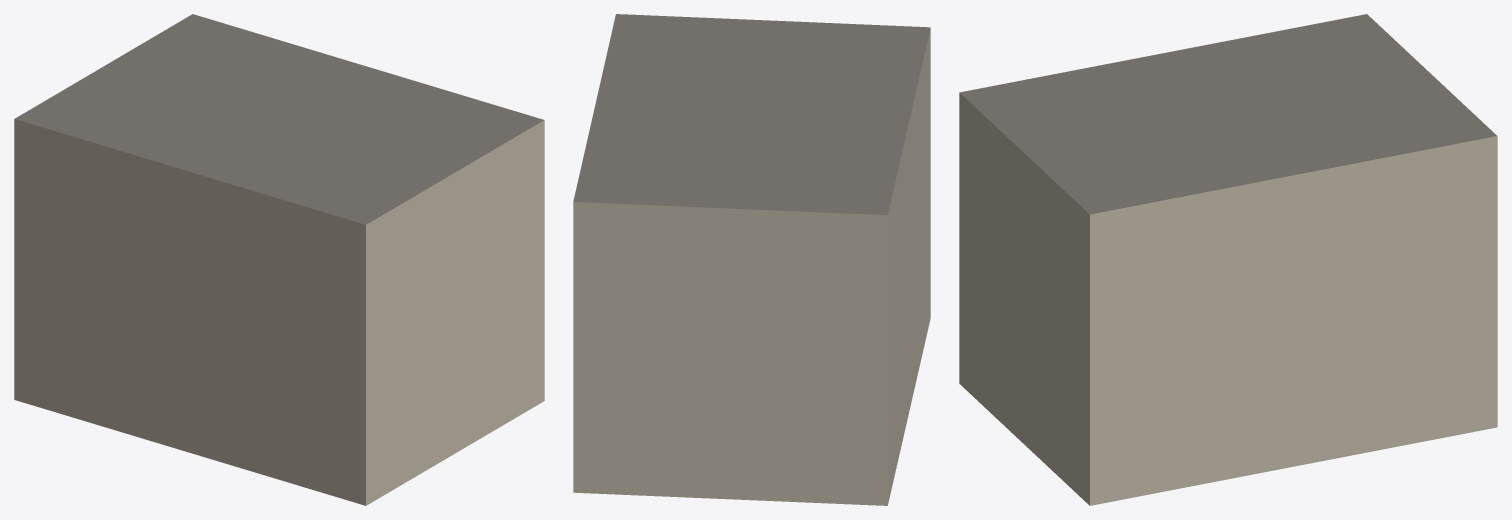
The picture shows the model from 3 angles, left to right: view 1: azimuth 30°, elevation 25°; view 2: azimuth 150°, elevation 25°; view 3: azimuth 270°, elevation 25°; orthographic projection. The views are drawn at different scales.
Visible parts, largest first — view 1: HP-w1202250233; view 2: HP-w1202250233; view 3: HP-w1202250233.
Part boxes in pixels (left/top/right/bottom): HP-w1202250233: left=14, top=14, right=544, bottom=505; HP-w1202250233: left=573, top=14, right=930, bottom=505; HP-w1202250233: left=959, top=14, right=1497, bottom=505.
Size of the model in its own units: 17.71 by 12 by 20.08.
